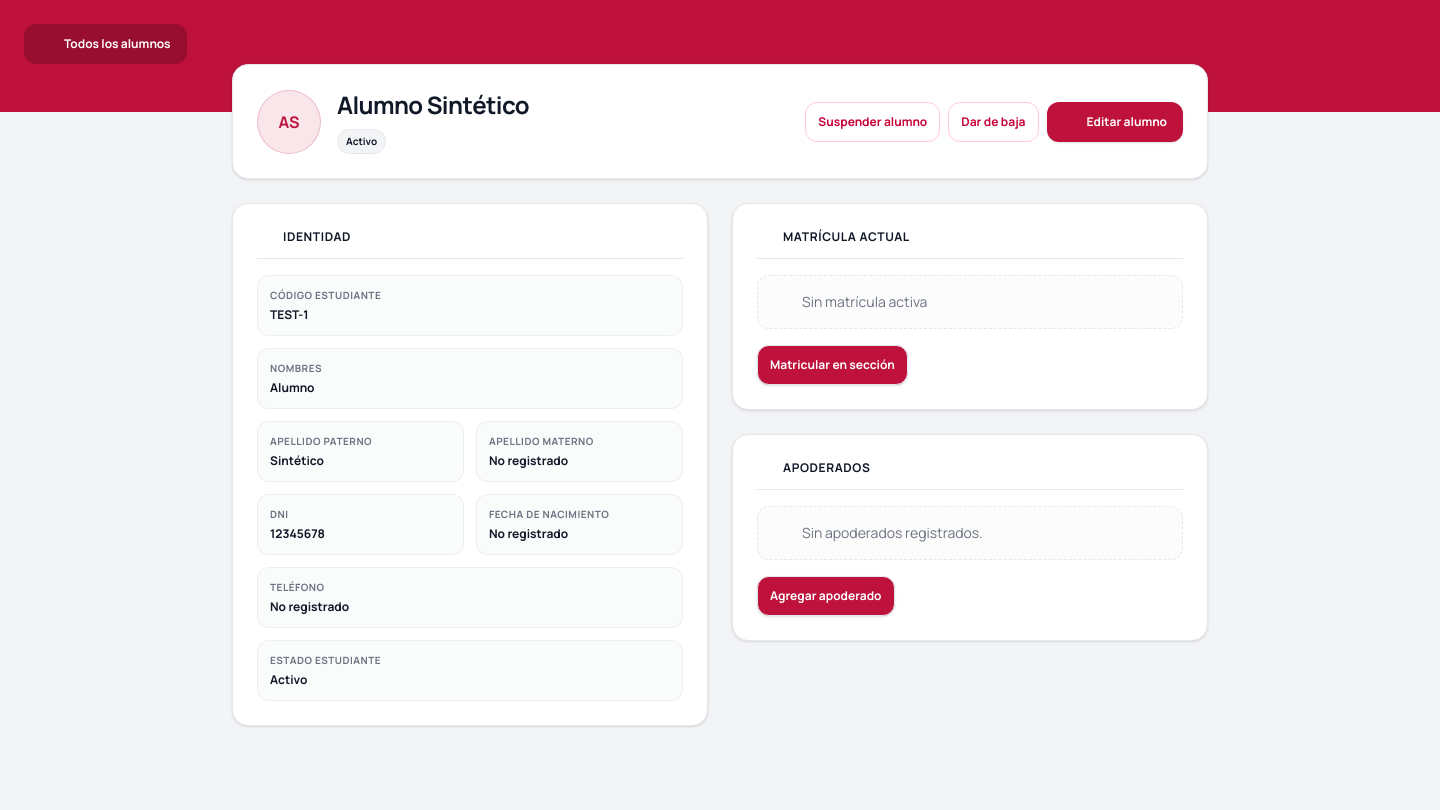
Test: enrollment codes name the cause; without a valid code the grouped 409 text stays
Step 1. Click the button "Matricular en sección" → (832, 365), box top-left (757, 345), bottom-right (908, 385)
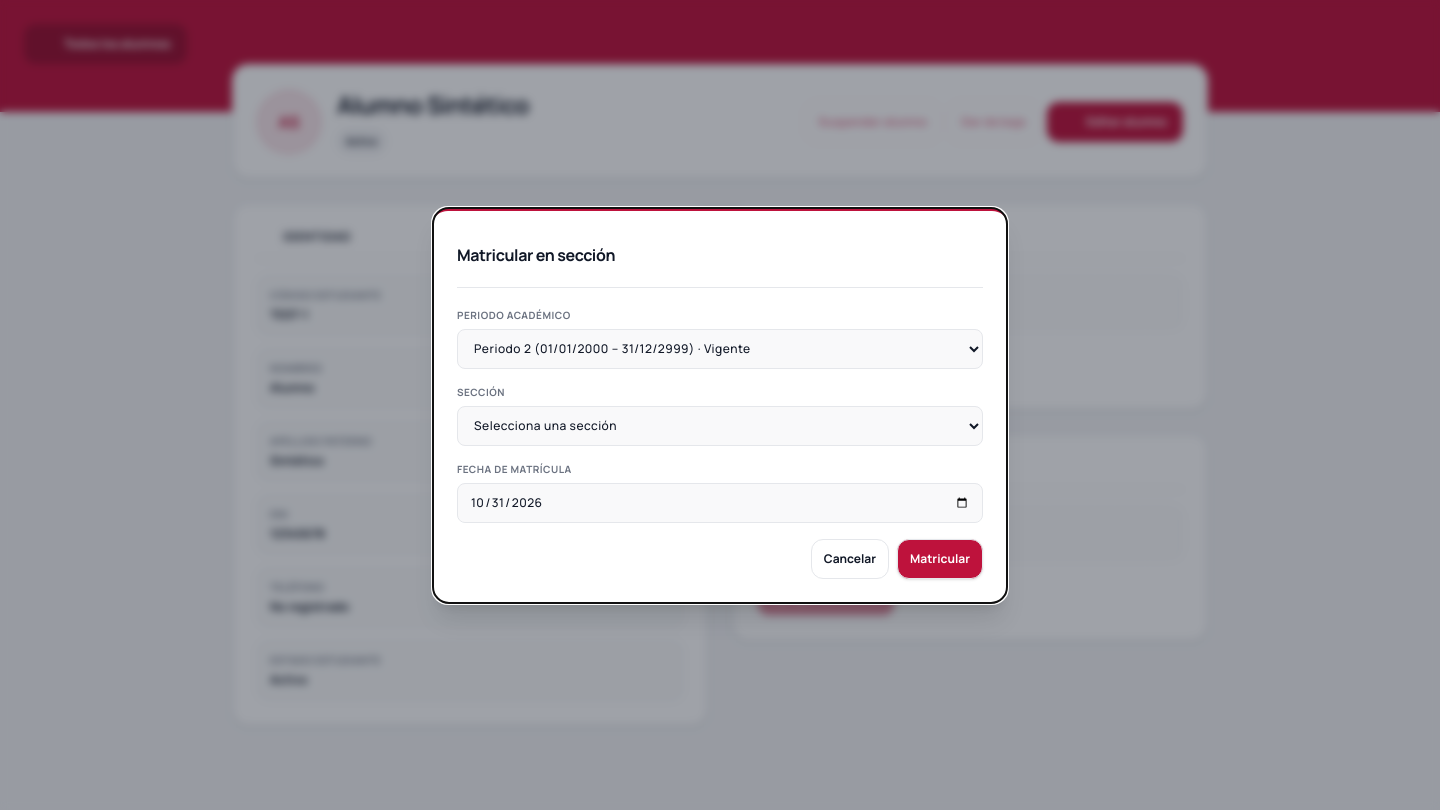
Step 2. Select "Primaria · 1° · Sección A5 · 3 vacantes" in the dropdown labelled "Sección" → (720, 426), box top-left (457, 406), bottom-right (983, 446)
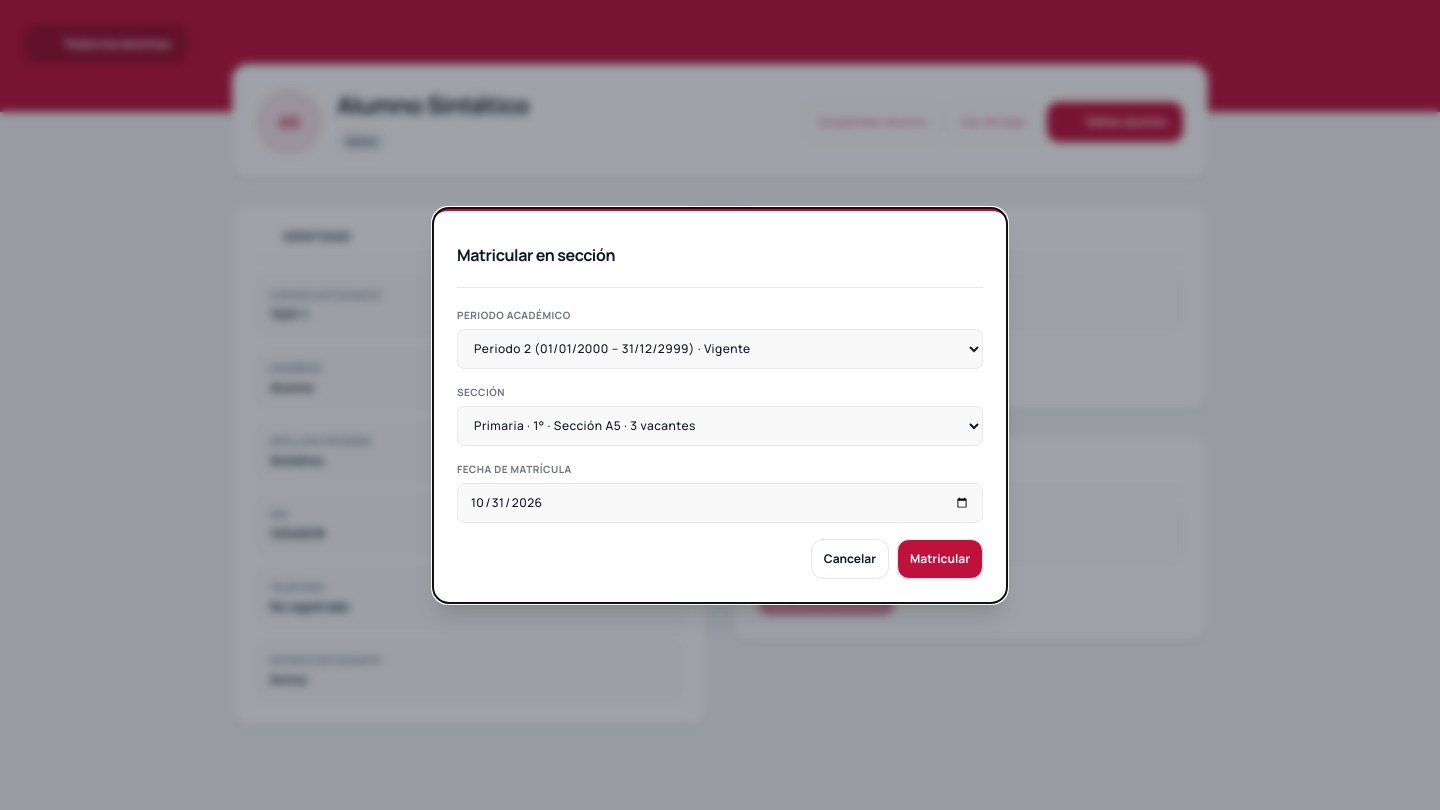
Step 3. Submit the form, box top-left (457, 308), bottom-right (983, 578)
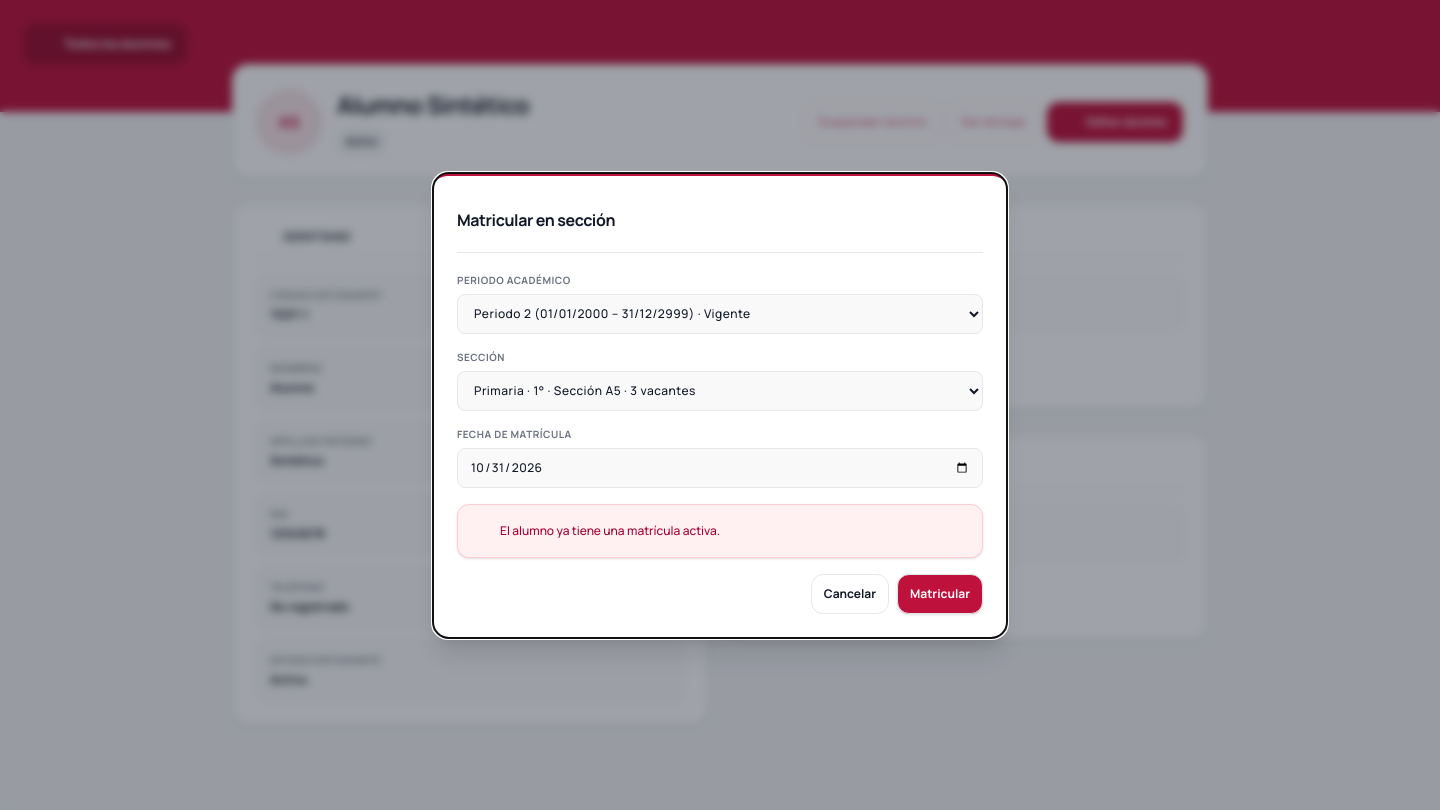
Now the text "El alumno ya tiene una matrícula activa." is shown, box top-left (500, 520), bottom-right (720, 540)
